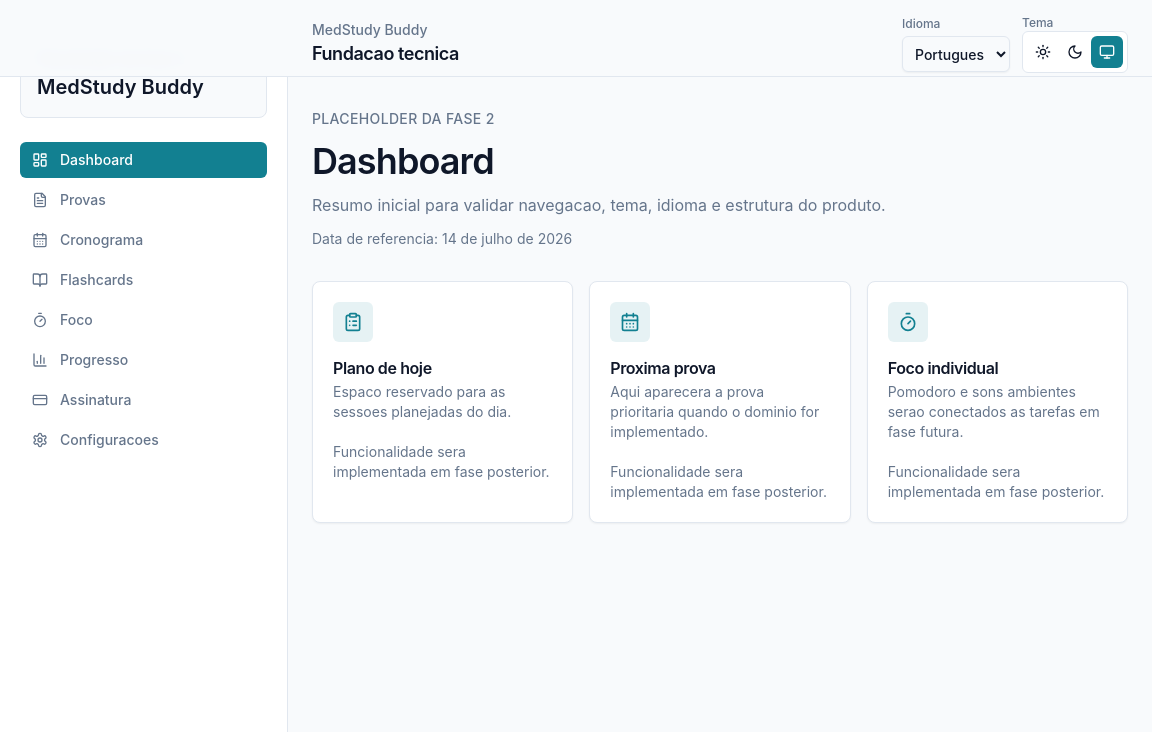
App › changes the active language
The width and height of the screenshot is (1152, 732).
Select "Ingles" in the dropdown labelled "Idioma" at (956, 54), box [902,36,1010,72]
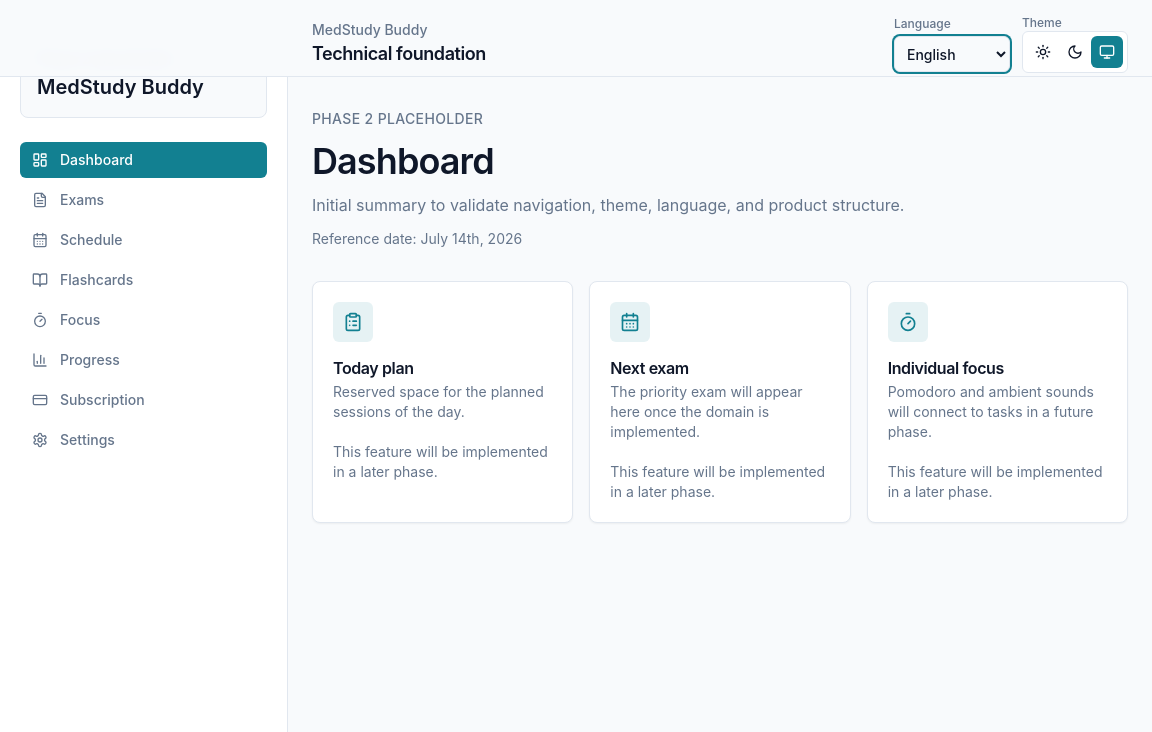
expect the heading "Dashboard" is shown: met, box [312,139,494,183]
expect the heading "Technical foundation" is shown: met, box [312,40,486,68]
